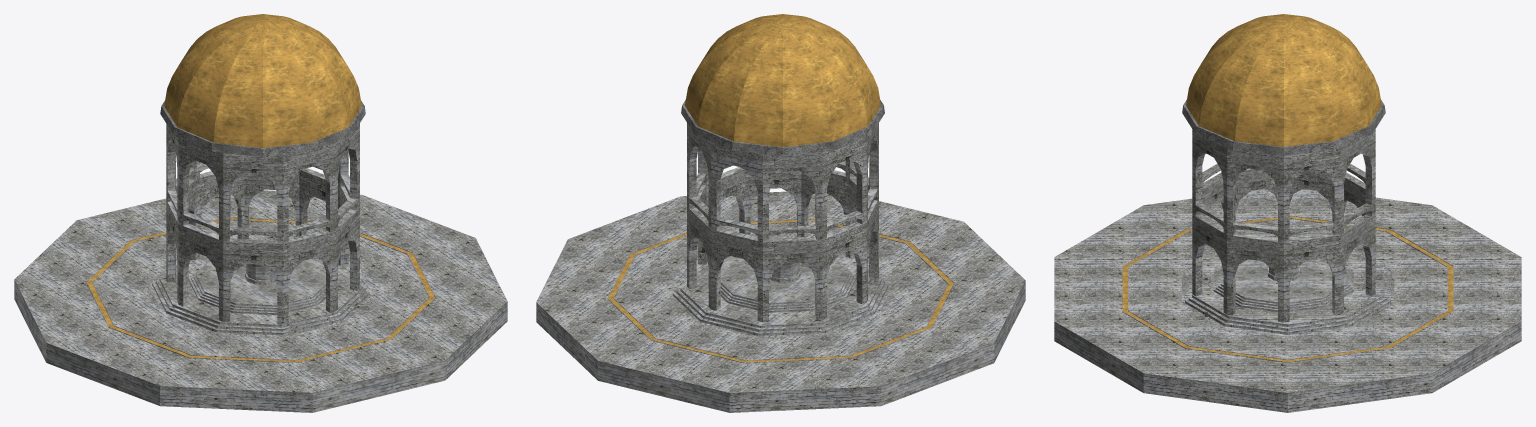
The model's file is SmallTemple.fbx.
3 views of the same model, side by side, from view 1: azimuth 30°, elevation 25°; view 2: azimuth 150°, elevation 25°; view 3: azimuth 270°, elevation 25° (orthographic).
Parts seen in each view (by area): view 1: pCylinder1, polySurface15, pasted__pasted__polySurface13, polySurface14, pasted__pCylinder1; view 2: pCylinder1, polySurface15, pasted__pasted__polySurface13, polySurface14, pasted__pCylinder1; view 3: pCylinder1, polySurface15, pasted__pasted__polySurface13, polySurface14, pasted__pCylinder1.
Boxes of the visible parts, left/top/right/bottom form: pCylinder1: left=14, top=190, right=507, bottom=412; polySurface15: left=160, top=14, right=365, bottom=157; pasted__pasted__polySurface13: left=166, top=168, right=359, bottom=324; polySurface14: left=166, top=123, right=359, bottom=243; pasted__pCylinder1: left=189, top=259, right=325, bottom=314; pCylinder1: left=536, top=191, right=1025, bottom=412; polySurface15: left=681, top=14, right=884, bottom=156; pasted__pasted__polySurface13: left=687, top=167, right=878, bottom=322; polySurface14: left=687, top=123, right=878, bottom=242; pasted__pCylinder1: left=720, top=257, right=856, bottom=312; pCylinder1: left=1054, top=189, right=1521, bottom=412; polySurface15: left=1182, top=14, right=1385, bottom=155; pasted__pasted__polySurface13: left=1192, top=168, right=1375, bottom=322; polySurface14: left=1192, top=129, right=1375, bottom=243; pasted__pCylinder1: left=1213, top=259, right=1353, bottom=311.
Size of the model in its own units: 121 by 77.54 by 115.
5 materials, 5 textured.
